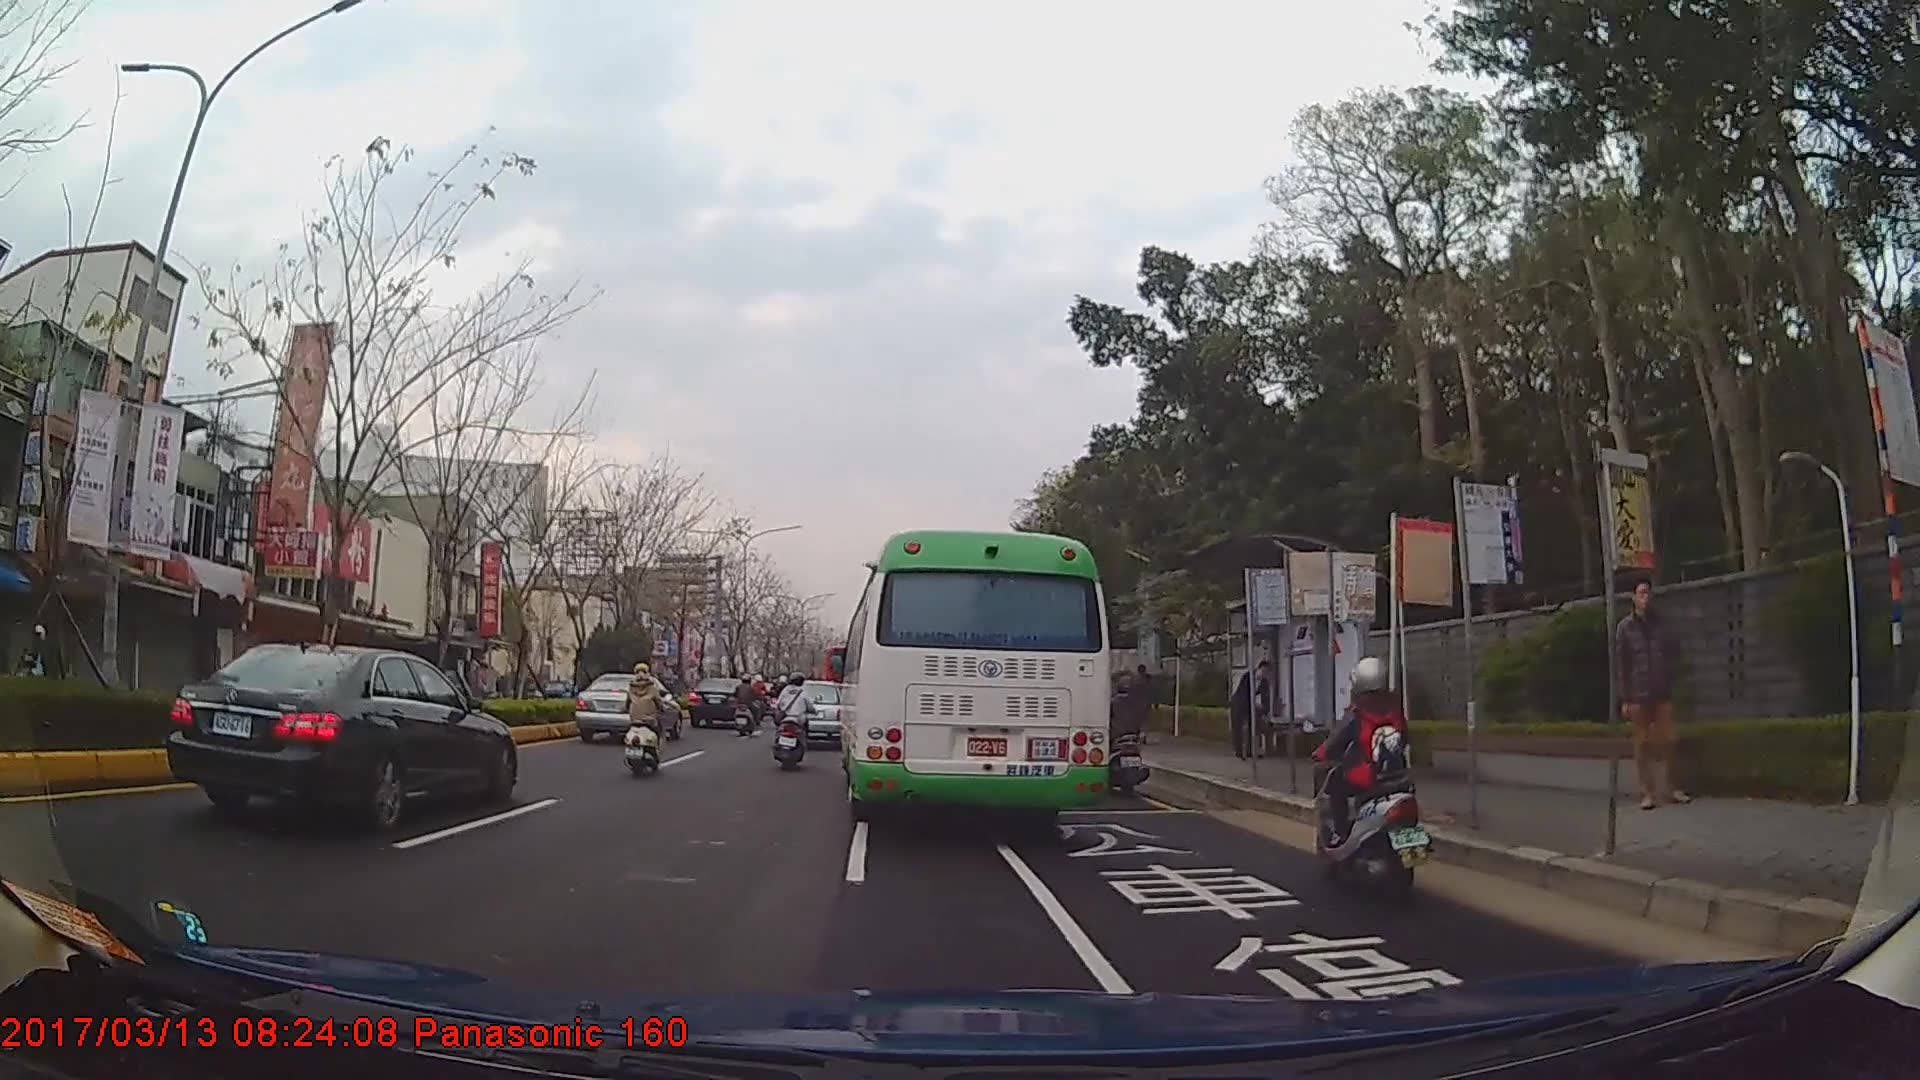pedestrian: (1612, 584, 1687, 811), (1226, 660, 1280, 762), (1127, 664, 1159, 746)
rider: (1312, 657, 1437, 900), (1104, 677, 1158, 800), (624, 663, 672, 776), (776, 676, 822, 774), (733, 675, 763, 738), (21, 622, 52, 678)
vehicle: (839, 530, 1113, 832), (163, 640, 517, 837), (575, 672, 682, 744), (775, 679, 846, 749), (687, 676, 754, 730)
